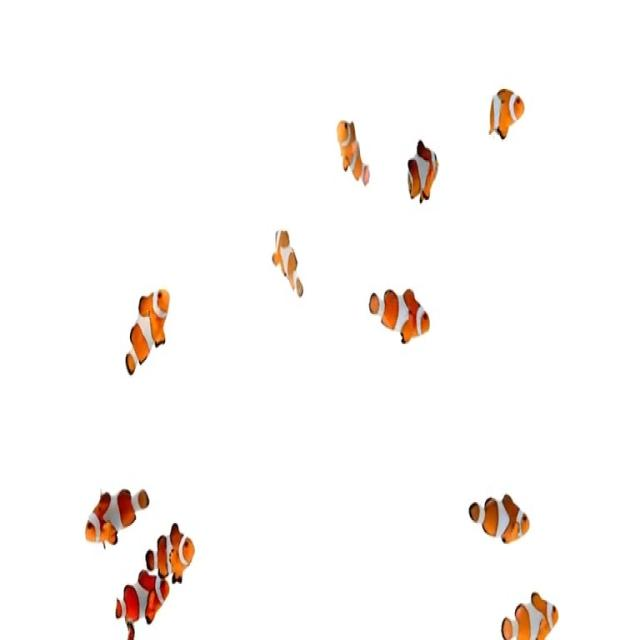fish: (76, 468, 154, 552), (368, 270, 438, 358), (114, 283, 182, 373), (140, 517, 220, 583), (272, 208, 316, 324), (467, 485, 530, 553), (491, 578, 560, 640), (108, 568, 172, 628), (404, 122, 440, 214), (488, 66, 526, 153), (333, 94, 363, 196)
